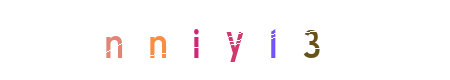3: (273, 0, 353, 80)
I: (181, 0, 261, 80)
L: (233, 0, 313, 80)
N: (103, 0, 183, 80), (152, 0, 232, 80)
Y: (185, 0, 265, 80)
